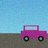vehicle: (21, 25, 47, 41)
